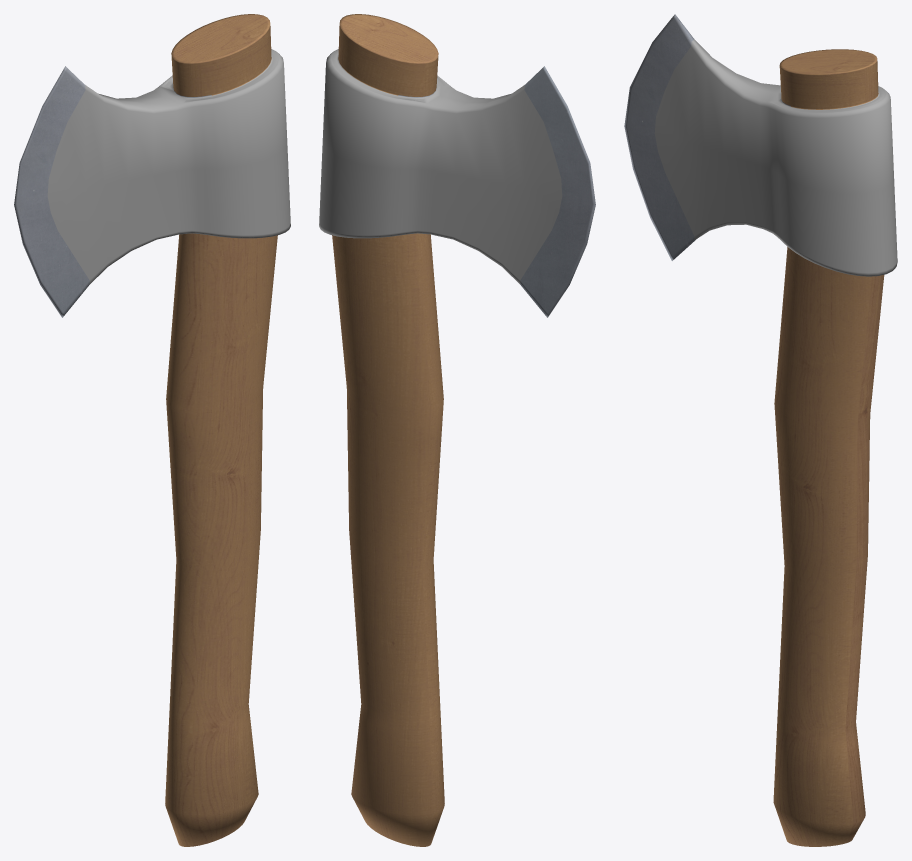
Rendered from Axe-V2.fbx.
3 views of the same model, side by side, from view 1: azimuth 30°, elevation 25°; view 2: azimuth 150°, elevation 25°; view 3: azimuth 330°, elevation 25° (orthographic).
Visible parts, largest first — view 1: Cylinder.001; view 2: Cylinder.001; view 3: Cylinder.001.
Part boxes in pixels (left/top/right/bottom): Cylinder.001: left=14, top=14, right=290, bottom=846; Cylinder.001: left=319, top=14, right=595, bottom=846; Cylinder.001: left=624, top=14, right=897, bottom=846.
Bounding box in the file's own units: 511 × 1448 × 153.
Materials: 3 (2 with a texture image).
